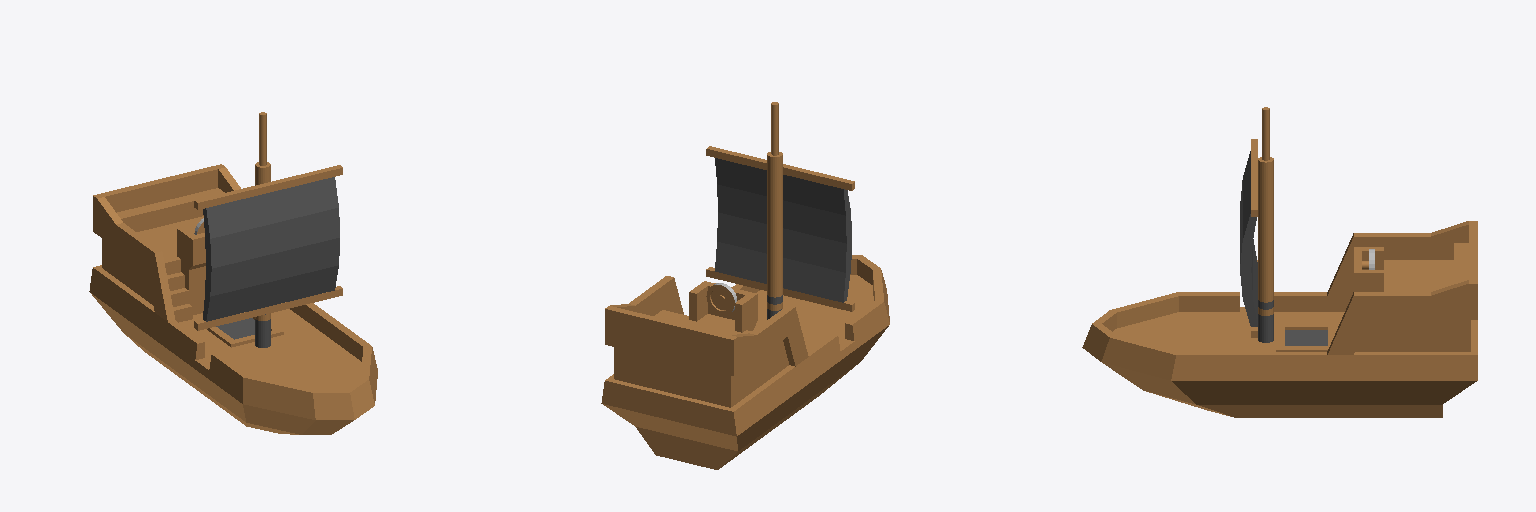
The model's file is boat_level1.obj.
The picture shows the model from 3 angles: view 1: azimuth 30°, elevation 25°; view 2: azimuth 150°, elevation 25°; view 3: azimuth 270°, elevation 25°; orthographic projection.
Parts seen in each view (by area): view 1: Mesh22_Group12_Group1_Model, Mesh12_Group14_Group12_Group1_Model, Mesh13_Group15_Group12_Group1_Model; view 2: Mesh22_Group12_Group1_Model, Mesh12_Group14_Group12_Group1_Model, Mesh13_Group15_Group12_Group1_Model, Mesh11_Group13_Group12_Group1_Model; view 3: Mesh22_Group12_Group1_Model, Mesh13_Group15_Group12_Group1_Model, Mesh12_Group14_Group12_Group1_Model.
Boxes of the visible parts, x1,y1,x2,y2 form: Mesh22_Group12_Group1_Model: [89, 164, 377, 434]; Mesh12_Group14_Group12_Group1_Model: [194, 165, 342, 330]; Mesh13_Group15_Group12_Group1_Model: [255, 112, 270, 347]; Mesh22_Group12_Group1_Model: [601, 255, 889, 469]; Mesh12_Group14_Group12_Group1_Model: [706, 146, 854, 311]; Mesh13_Group15_Group12_Group1_Model: [767, 102, 782, 319]; Mesh11_Group13_Group12_Group1_Model: [706, 283, 736, 314]; Mesh22_Group12_Group1_Model: [1082, 221, 1477, 417]; Mesh13_Group15_Group12_Group1_Model: [1258, 107, 1273, 342]; Mesh12_Group14_Group12_Group1_Model: [1240, 139, 1257, 337].
Bounding box in the file's own units: 3.75 × 7.26 × 8.84.